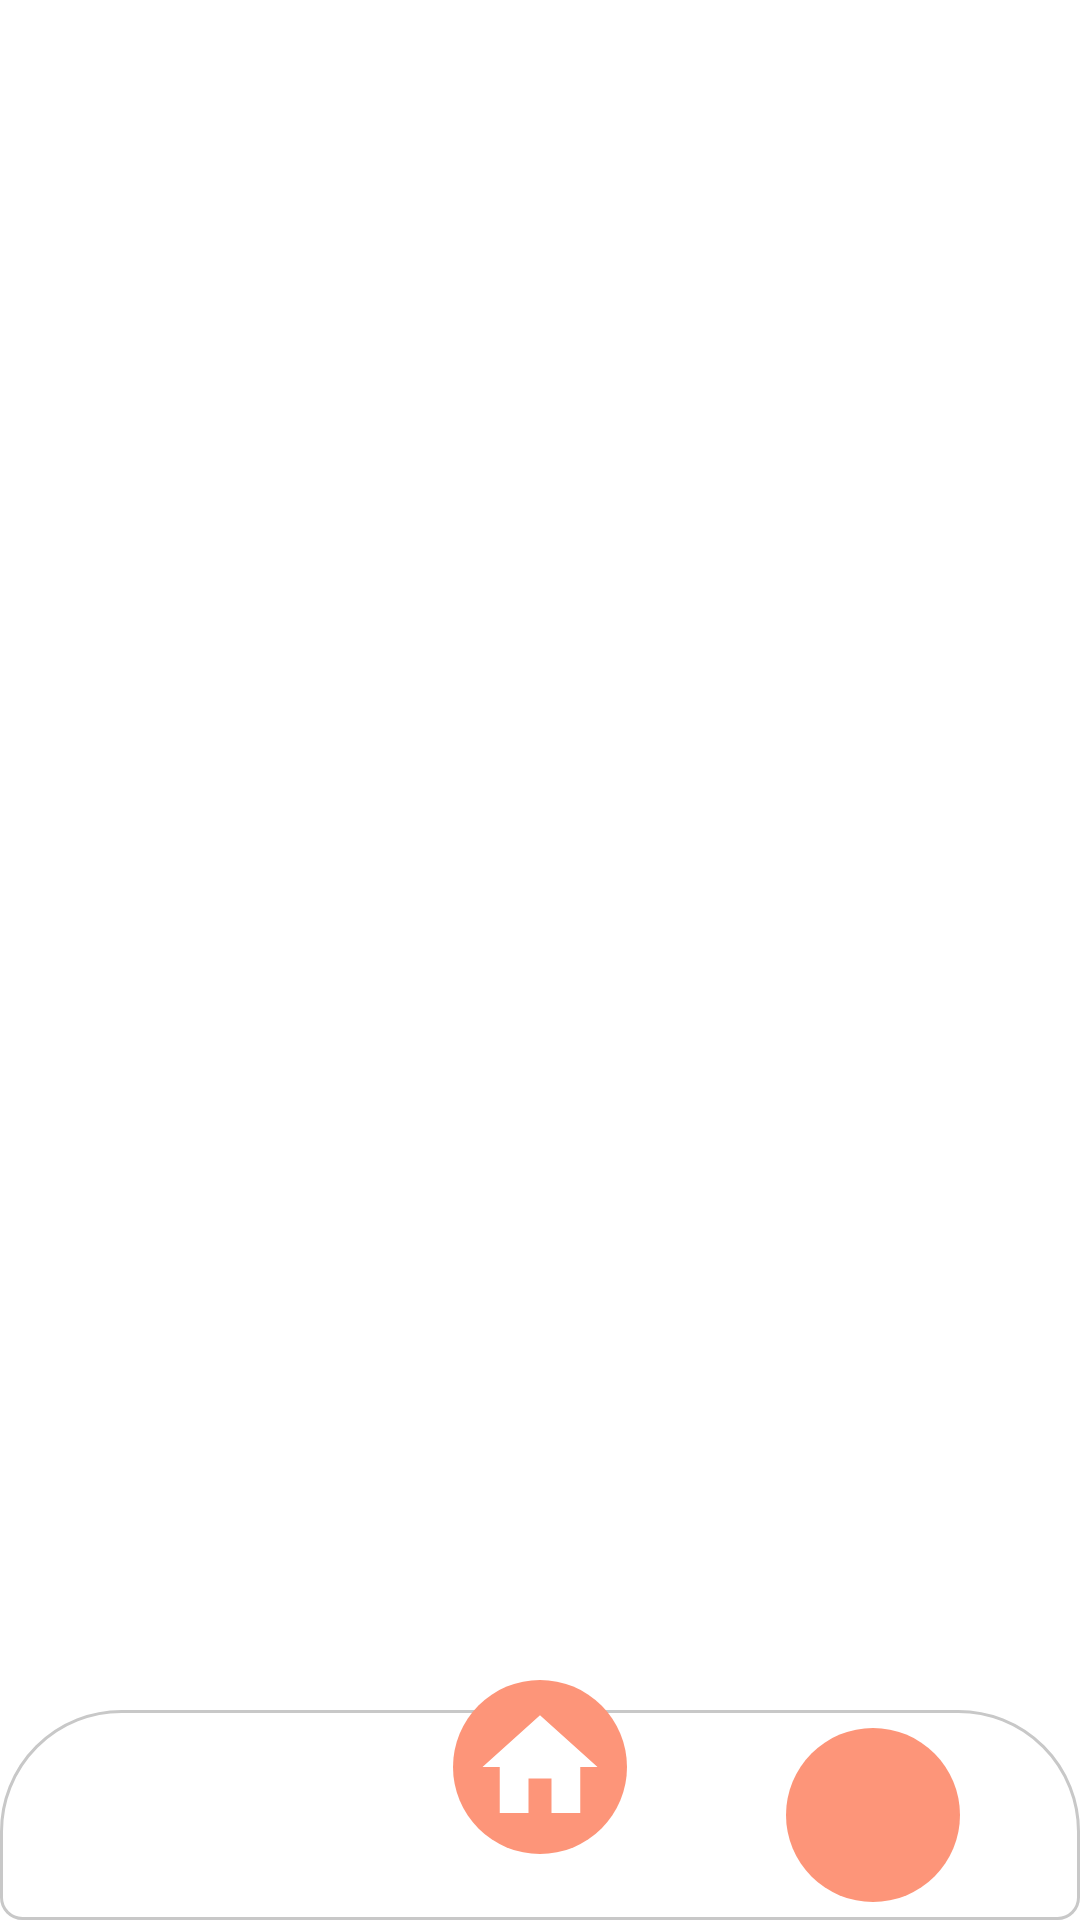

Icons on this 1080px x 1920px Android screen, each with the point to tap as (x,y):
home: (540,1767)
